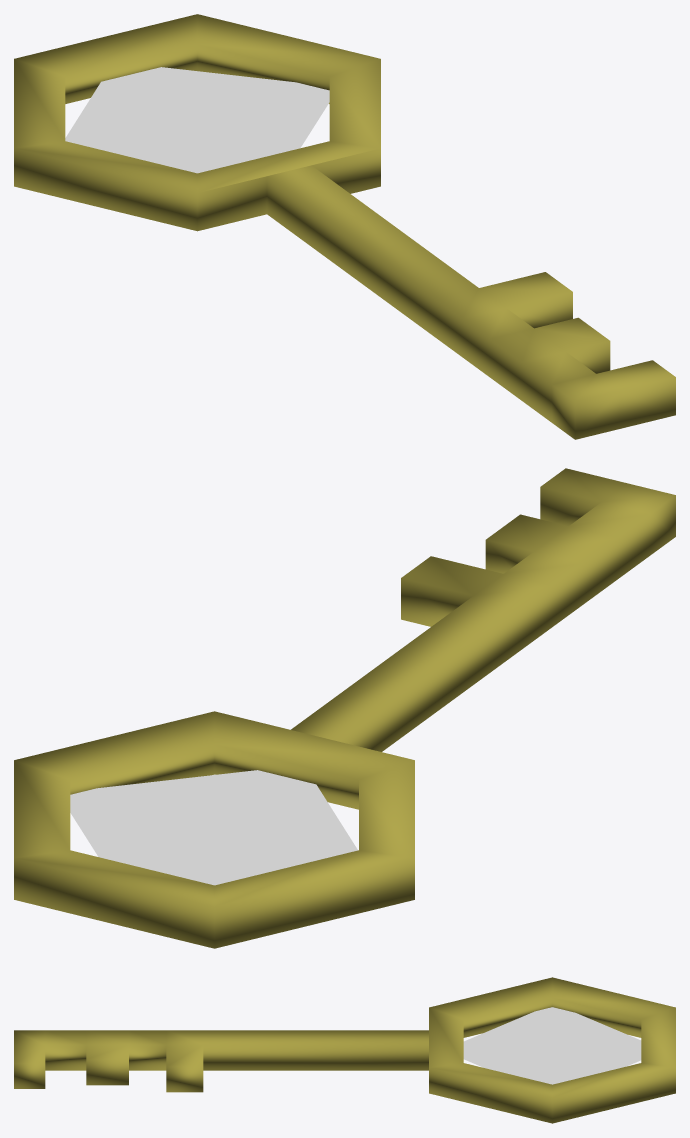
File: Kagi.fbx
3 renders of one model, top to bottom at view 1: azimuth 30°, elevation 25°; view 2: azimuth 150°, elevation 25°; view 3: azimuth 270°, elevation 25°, orthographic. The views are drawn at different scales.
Visible parts, largest first — view 1: KagiObj, KagiTexPlane; view 2: KagiObj, KagiTexPlane; view 3: KagiObj, KagiTexPlane.
Boxes of the visible parts, <box> form: KagiObj: <box>14,14,675,439</box>; KagiTexPlane: <box>65,67,329,173</box>; KagiObj: <box>14,468,675,948</box>; KagiTexPlane: <box>70,770,357,885</box>; KagiObj: <box>14,977,675,1123</box>; KagiTexPlane: <box>463,1007,641,1084</box>.
Size of the model in its own units: 0.8986 by 0.0892 by 2.09.
